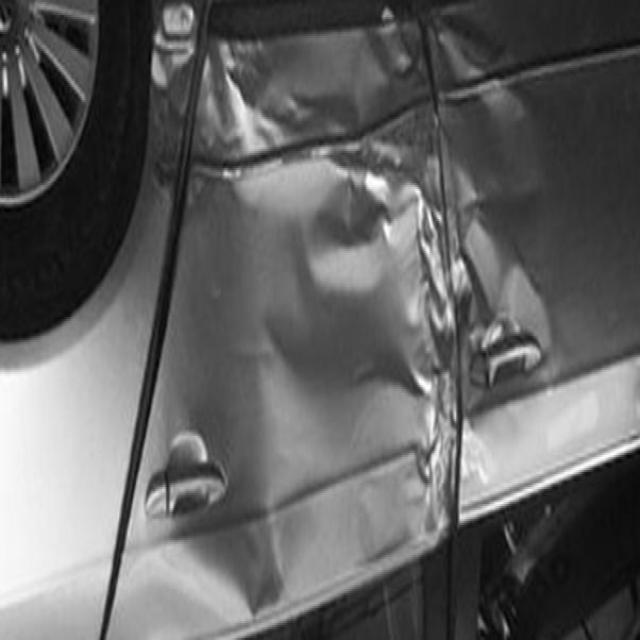dent: (194, 15, 548, 576)
